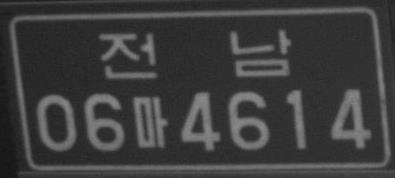0: (35, 93, 78, 152)
1: (278, 87, 317, 151)
4: (330, 87, 373, 149), (180, 90, 221, 151)
6: (82, 91, 126, 152), (227, 89, 270, 151)
마: (130, 94, 170, 149)
전남_D: (97, 27, 293, 80)
